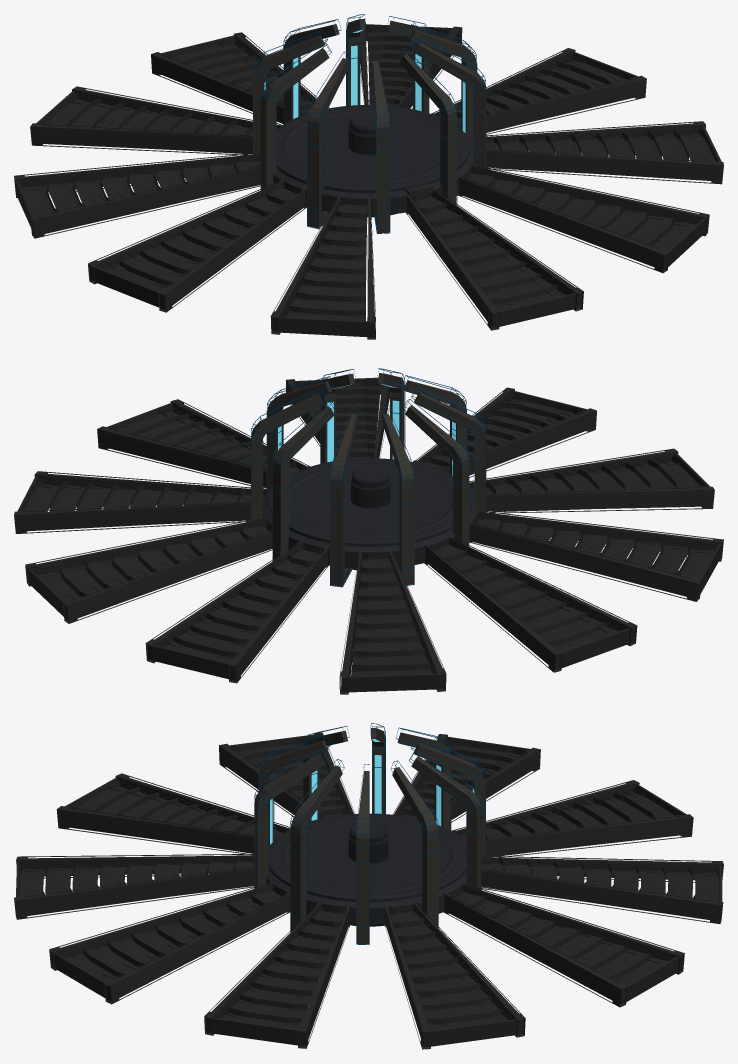
The model's file is final_domain_nav_platform2.glb.
The picture shows the model from 3 angles, top to bottom: view 1: azimuth 30°, elevation 25°; view 2: azimuth 150°, elevation 25°; view 3: azimuth 270°, elevation 25°; orthographic projection.
Visible parts, largest first — view 1: Cube.010, Cube.004, Cylinder; view 2: Cube.010, Cube.004, Cylinder, Cylinder.003, Cylinder.001, Cylinder.002; view 3: Cube.010, Cube.004, Cylinder.
Boxes of the visible parts, x1,y1,x2,y2 form: Cube.010: (14,22,723,339); Cube.004: (253,14,486,233); Cylinder: (273,105,474,217); Cube.010: (14,377,723,694); Cube.004: (251,368,486,587); Cylinder: (263,458,478,570); Cylinder.003: (350,479,390,508); Cylinder.001: (352,481,389,507); Cylinder.002: (353,466,388,487); Cube.010: (14,732,723,1049); Cube.004: (254,723,485,944); Cylinder: (266,813,466,926).
Size of the model in its own units: 332 by 83.12 by 333.
